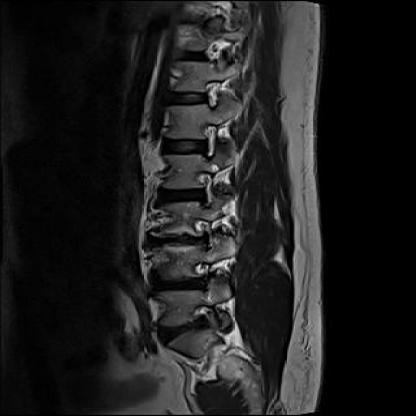Disc Bulgerotation: (139, 214, 252, 264), (144, 305, 247, 345)
